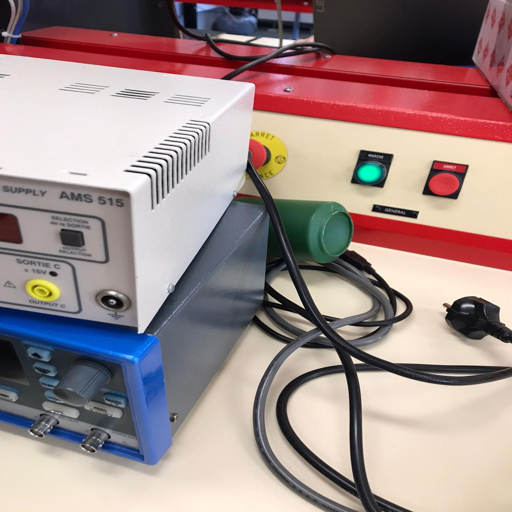Green_Can: (229, 195, 354, 264)
